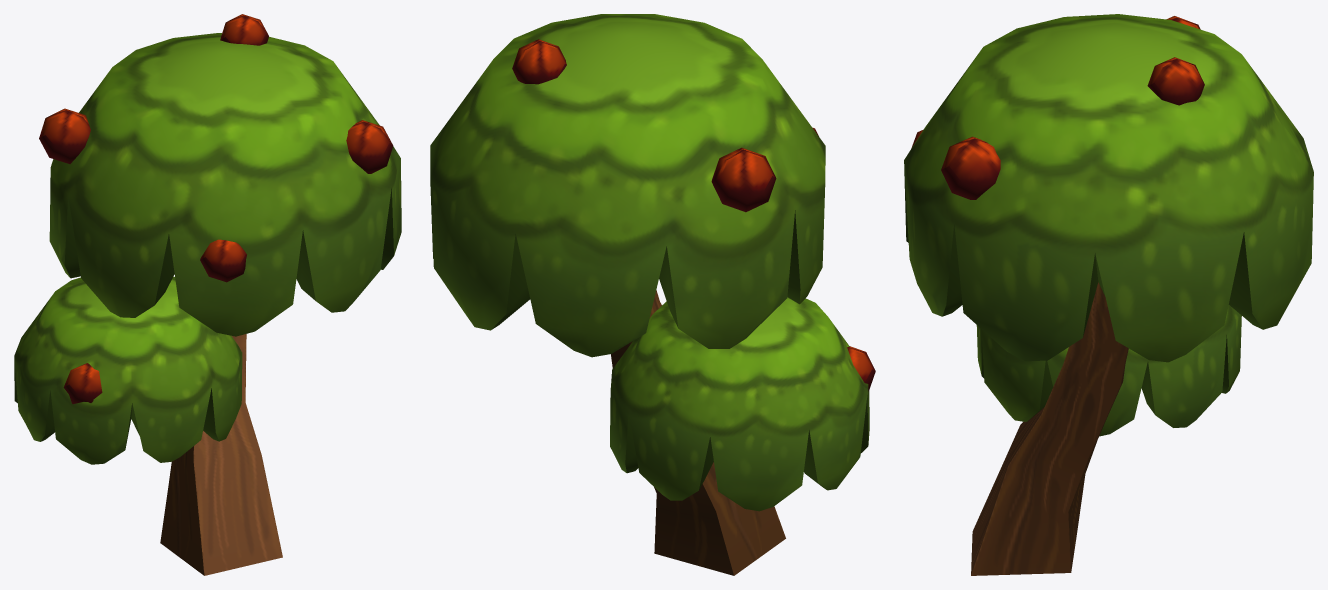
File: Tria_Nature_TreeVar02.fbx
3 views of the same model, side by side, from view 1: azimuth 30°, elevation 25°; view 2: azimuth 150°, elevation 25°; view 3: azimuth 270°, elevation 25° (orthographic). The views are drawn at different scales.
Parts seen in each view (by area): view 1: Tria_Nature_TreeVar02; view 2: Tria_Nature_TreeVar02; view 3: Tria_Nature_TreeVar02.
Part boxes in pixels (x1,y1,x2,y2): Tria_Nature_TreeVar02: (14,14,401,575); Tria_Nature_TreeVar02: (430,14,875,575); Tria_Nature_TreeVar02: (904,14,1313,575).
Size of the model in its own units: 459 by 587 by 400.
